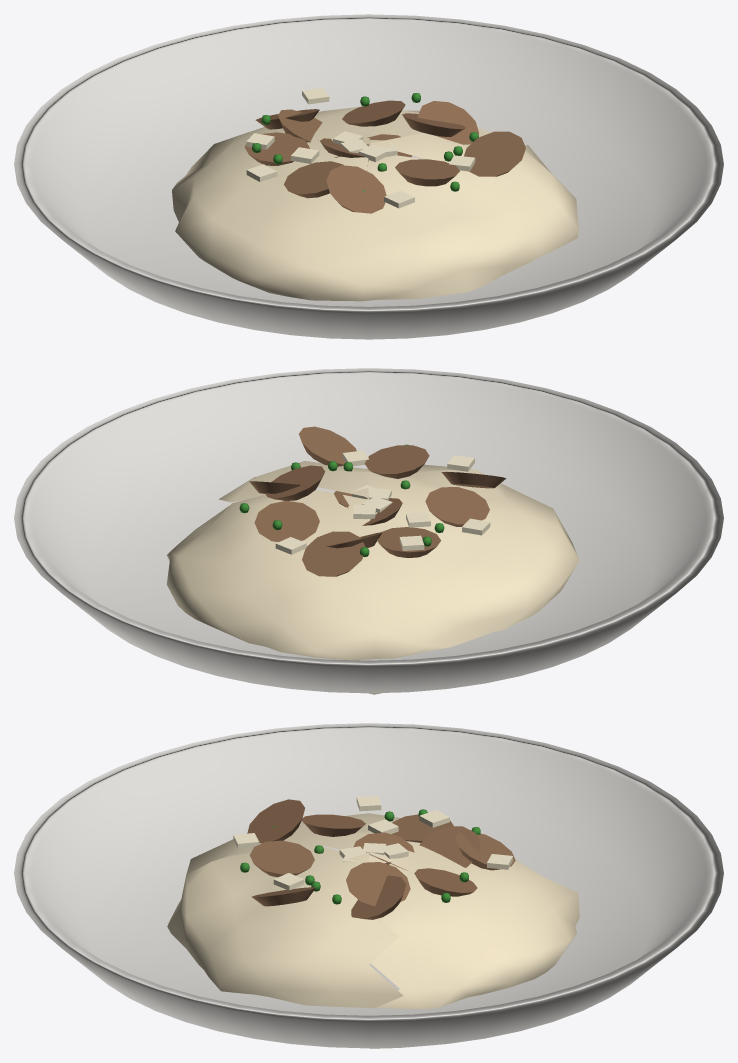
File: risoto-cogumelos.glb
The picture shows the model from 3 angles, top to bottom: view 1: azimuth 30°, elevation 25°; view 2: azimuth 150°, elevation 25°; view 3: azimuth 270°, elevation 25°; orthographic projection.
Visible parts, largest first — view 1: risoto-cogumelos; view 2: risoto-cogumelos; view 3: risoto-cogumelos.
Part boxes in pixels (box(x1,y1,x2,y2)): risoto-cogumelos: box(14, 14, 723, 339); risoto-cogumelos: box(14, 368, 723, 694); risoto-cogumelos: box(14, 723, 723, 1048).
Size of the model in its own units: 0.26 by 0.0693 by 0.26.
